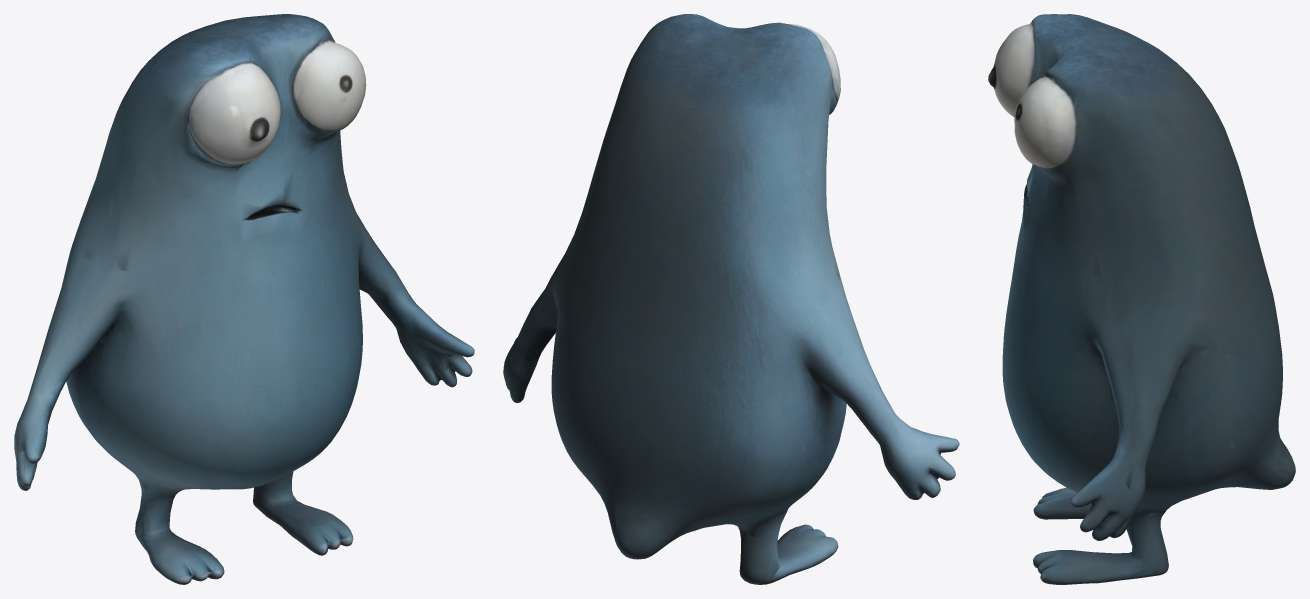
The model's file is monster.glb.
The picture shows the model from 3 angles, left to right: view 1: azimuth 30°, elevation 25°; view 2: azimuth 150°, elevation 25°; view 3: azimuth 270°, elevation 25°; orthographic projection. The views are drawn at different scales.
Size of the model in its own units: 1.82 by 2 by 1.1.
1 material, 1 textured.
